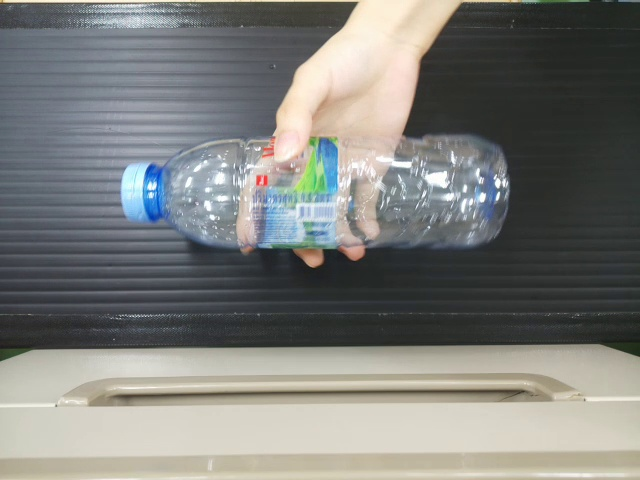bottle: (117, 134, 512, 256)
